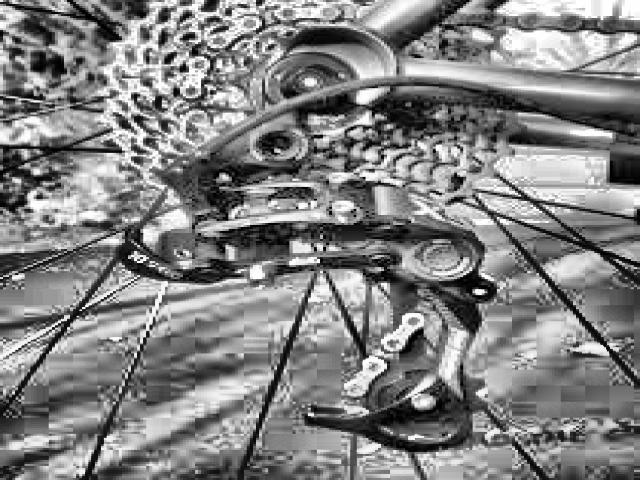cassette: (100, 0, 523, 212)
rear_derailleur: (116, 127, 502, 453)
